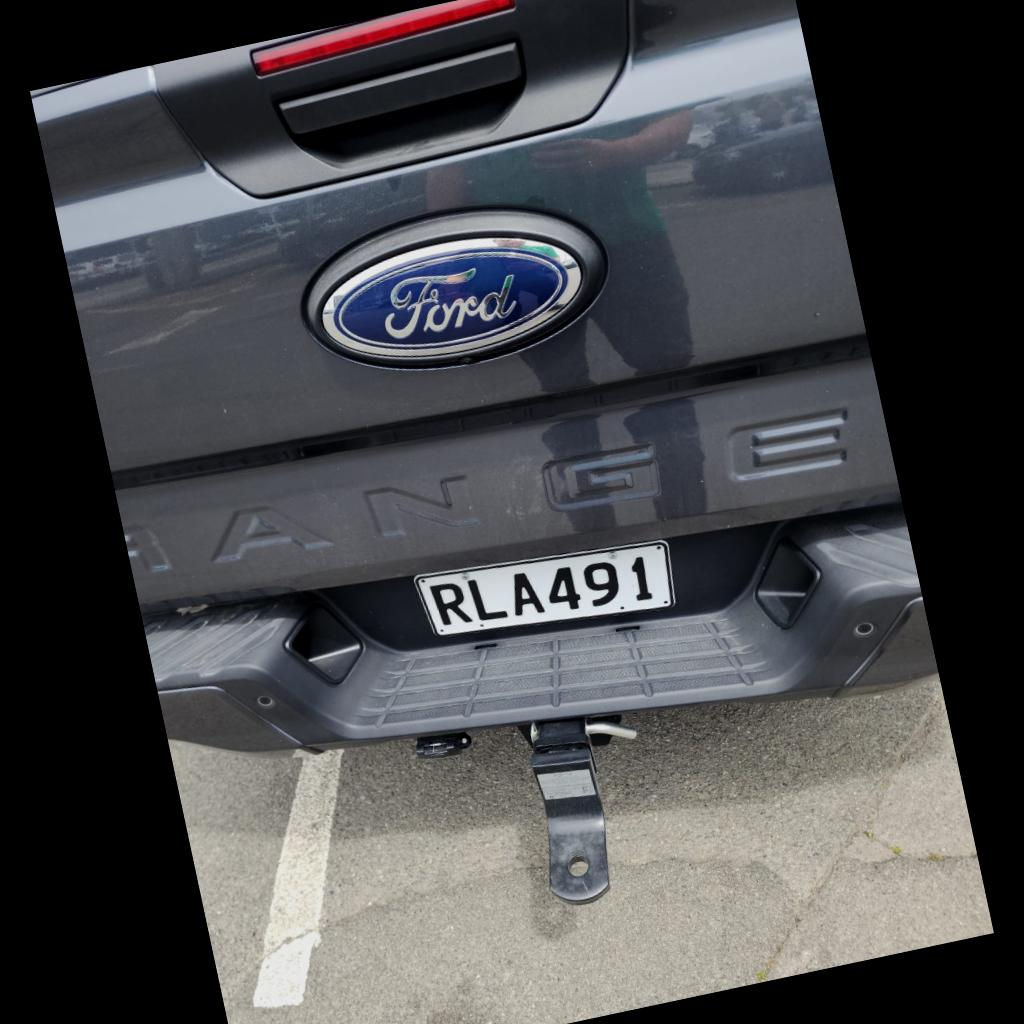Number-Plates: (402, 529, 693, 656)
